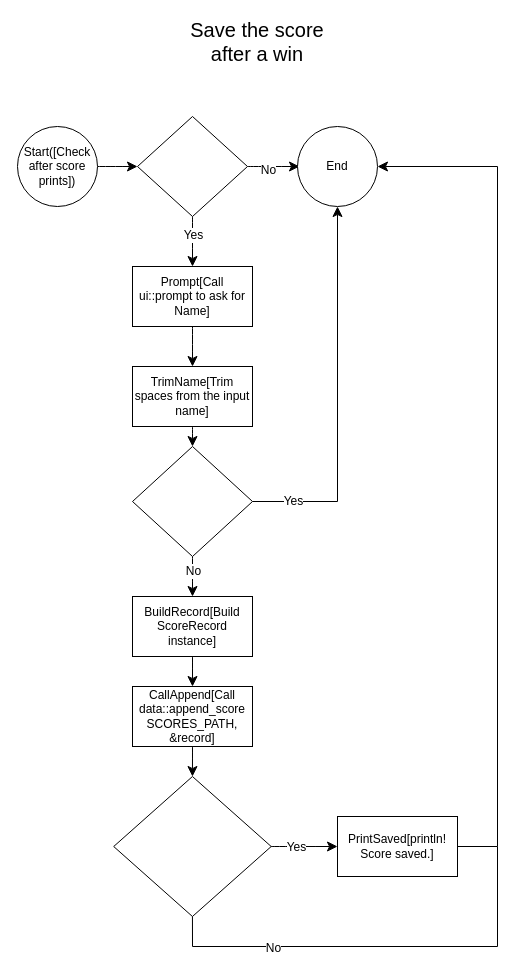
Some shapes in this 525 by 972 pixel diagram are drawn without their labels. The centre of each missing label's shape, as x and y in pixels:
"CheckEmpty{Is trimmed name empty?}" goes at [192,501].
"CheckScore{Is score > 0?}" goes at [192,166].
"CheckSuccess{Does append_score return true?}" goes at [192,846].
